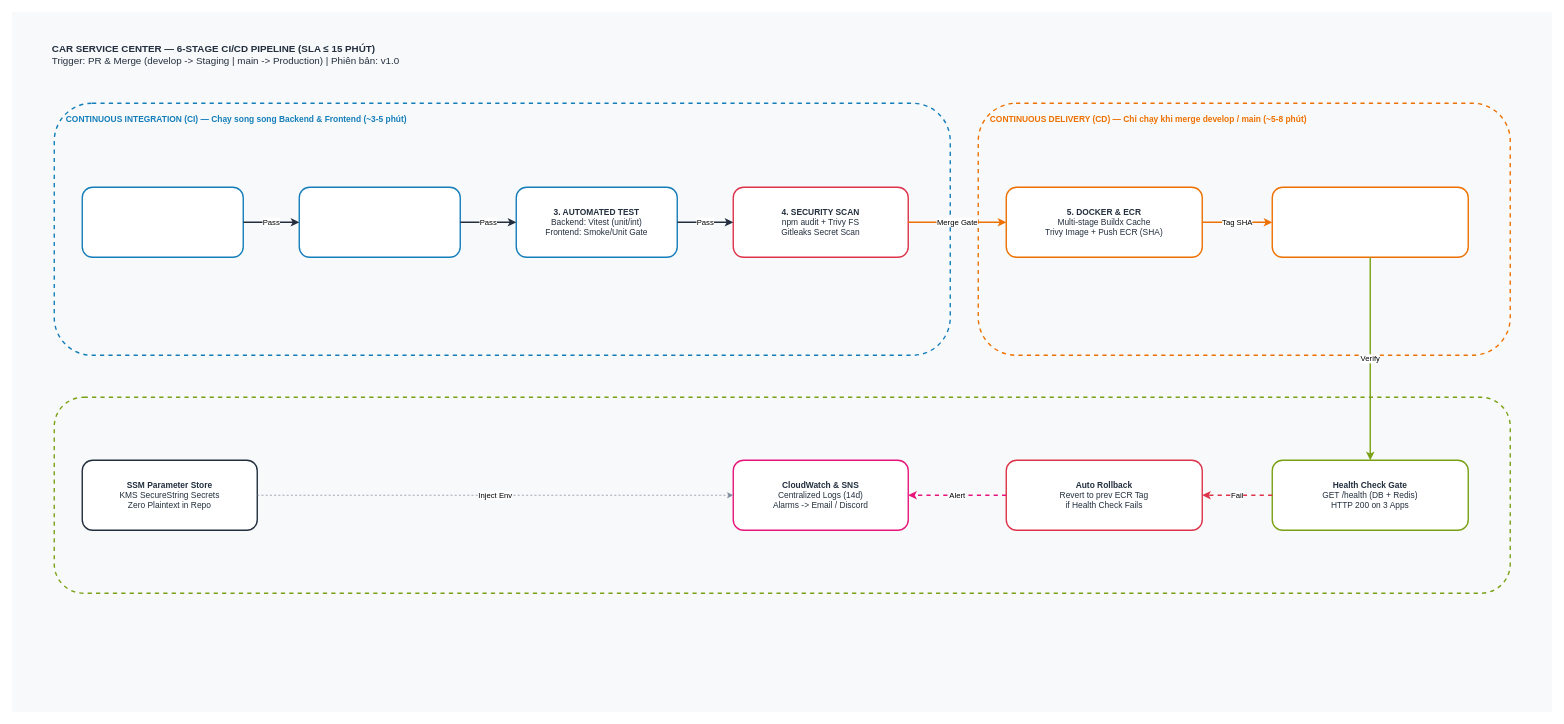
The diagram is 1564 pixels wide and 724 high, and some of its shapes have lost their labels. Each missing label, with the box of its shape:
1. BUILD Backend: tsc + prisma generate Frontend: next build (2 apps): (81, 186, 244, 258)
2. LINT & STATIC ESLint + tsc --noEmit prisma validate: (298, 186, 461, 258)
6. AUTO DEPLOY AWS OIDC -> SSM Run Command Prisma Migrate + Compose Up: (1271, 186, 1469, 258)
POST-DEPLOY VERIFICATION, ROLLBACK & OBSERVABILITY: (53, 396, 1511, 594)
